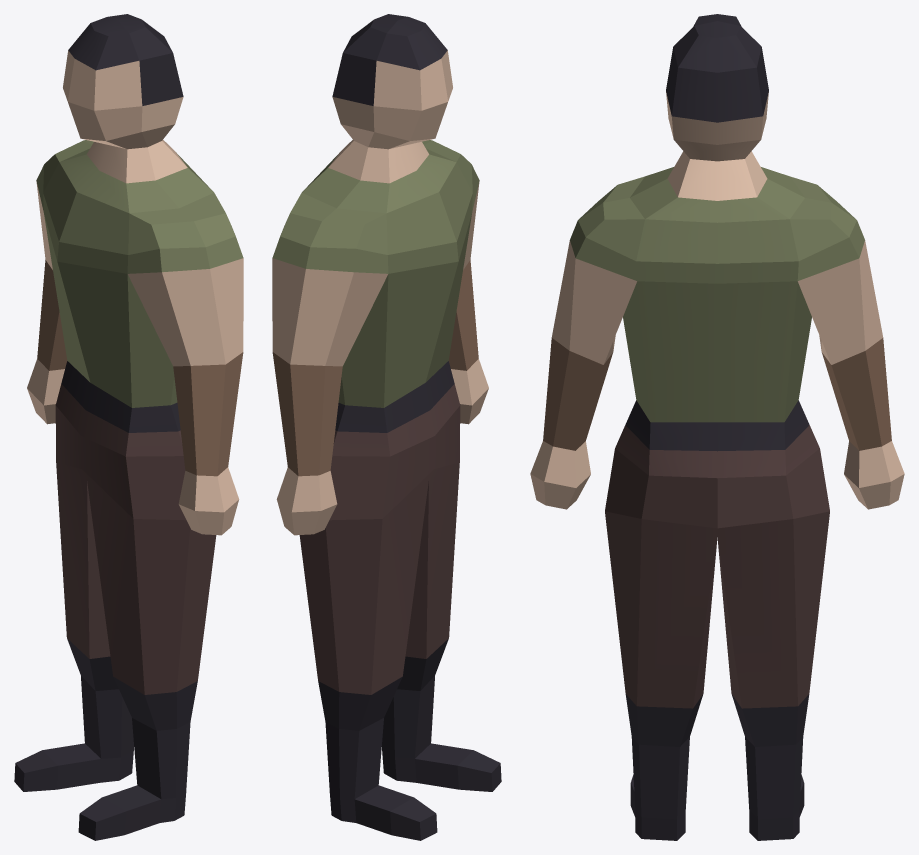
File: Human_001.fbx
3 views of the same model, side by side, from view 1: azimuth 30°, elevation 25°; view 2: azimuth 150°, elevation 25°; view 3: azimuth 270°, elevation 25° (orthographic). The views are drawn at different scales.
Visible parts, largest first — view 1: Human_001; view 2: Human_001; view 3: Human_001.
Part boxes in pixels (x1,y1,x2,y2): Human_001: (14,14,243,840); Human_001: (272,14,501,840); Human_001: (530,14,904,840).
Size of the model in its own units: 43.72 by 211 by 89.11.
